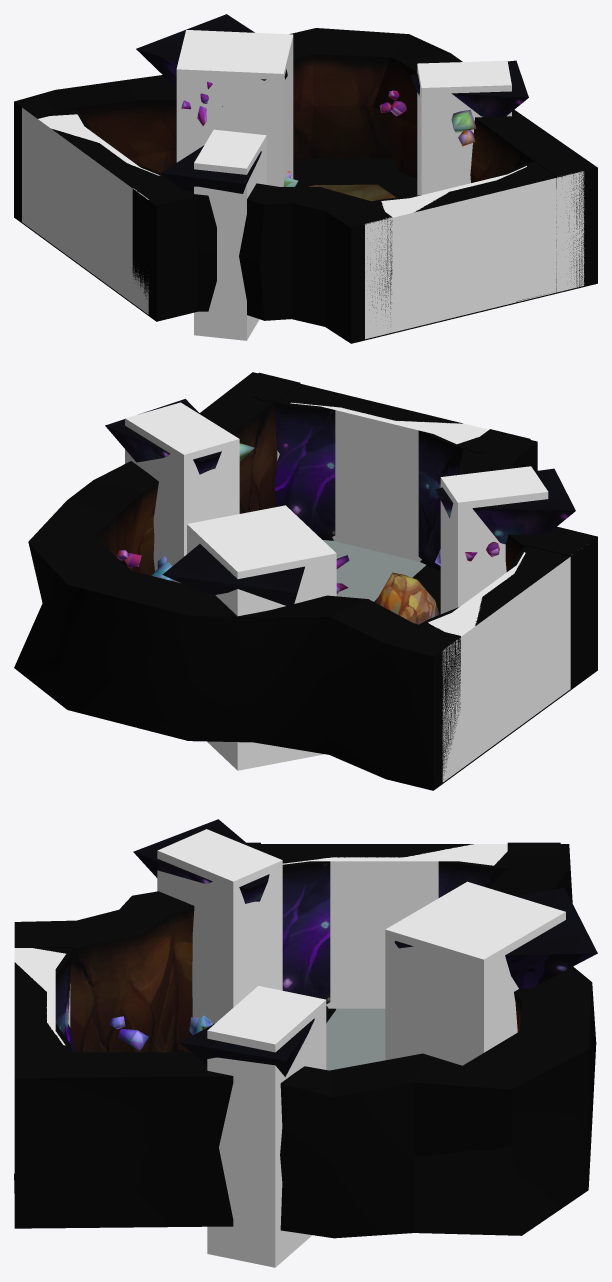
Rendered from Dungeon_101_RoadL_003.fbx.
3 views of the same model, one above another, from view 1: azimuth 30°, elevation 25°; view 2: azimuth 150°, elevation 25°; view 3: azimuth 270°, elevation 25° (orthographic). The views are drawn at different scales.
Parts seen in each view (by area): view 1: Dan1, DoorWay_NavMask (1) (×2), Cube_02, Cube_01, Cube_03, Dun_101_RoadL_003, Dun_101_Door_002 (×2), Dan1_shadow, Dan2; view 2: Dan1, DoorWay_NavMask (1) (×2), Dun_101_Door_002 (×2), Cube_02, Cube_03, Dun_101_RoadL_003, Cube_01, Quad_Nav_SP (3), Dungeon_011_Object_012, Dan1_shadow, Quad_Nav_SP (5); view 3: Dan1, Cube_02, Dun_101_Door_002 (×2), Cube_03, Cube_01, DoorWay_NavMask (1) (×2), Dun_101_RoadL_003, Quad_Nav_SP (4), Quad_Nav_SP (5), DoorWay_NavMask (2).
Boxes of the visible parts, x1,y1,x2,y2 form: Dan1: (14,28,597,343); DoorWay_NavMask (1) (×2): (22,107,584,339); Cube_02: (176,30,293,186); Cube_01: (194,129,266,340); Cube_03: (417,60,511,195); Dun_101_RoadL_003: (136,14,528,193); Dun_101_Door_002 (×2): (17,98,591,333); Dan1_shadow: (293,157,541,301); Dan2: (308,184,395,201); Dan1: (14,372,597,790); DoorWay_NavMask (1) (×2): (315,405,570,782); Dun_101_Door_002 (×2): (234,372,593,770); Cube_02: (187,505,336,770); Cube_03: (125,402,239,582); Dun_101_RoadL_003: (105,399,575,606); Cube_01: (440,466,548,613); Quad_Nav_SP (3): (323,540,425,601); Dungeon_011_Object_012: (374,572,439,624); Dan1_shadow: (412,565,440,614); Quad_Nav_SP (5): (337,576,388,600); Dan1: (14,844,596,1238); Cube_02: (385,881,565,1065); Dun_101_Door_002 (×2): (14,842,560,1073); Cube_03: (207,986,326,1267); Cube_01: (157,829,282,1024); DoorWay_NavMask (1) (×2): (14,844,507,1034); Dun_101_RoadL_003: (109,819,597,1076); Quad_Nav_SP (4): (326,1008,385,1065); Quad_Nav_SP (5): (326,1030,385,1070); DoorWay_NavMask (2): (430,850,500,865).
Size of what is drawn, in the model's own units: 7.21 by 3 by 7.11.
